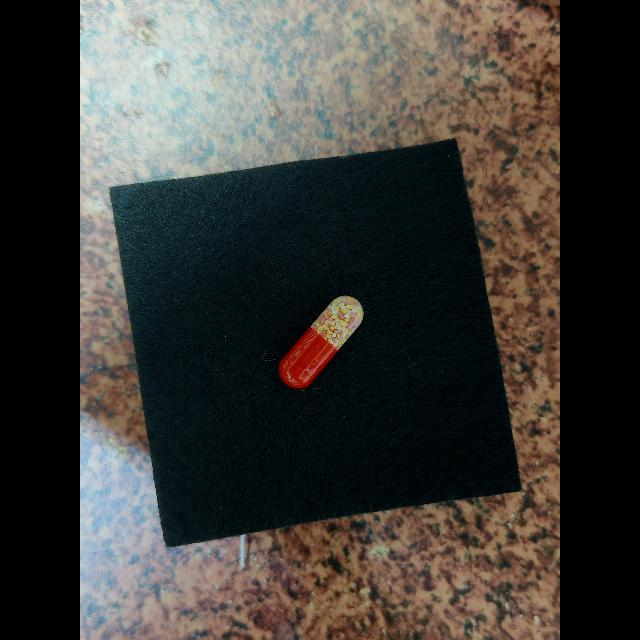Intact Capsule: (278, 295, 364, 389)
